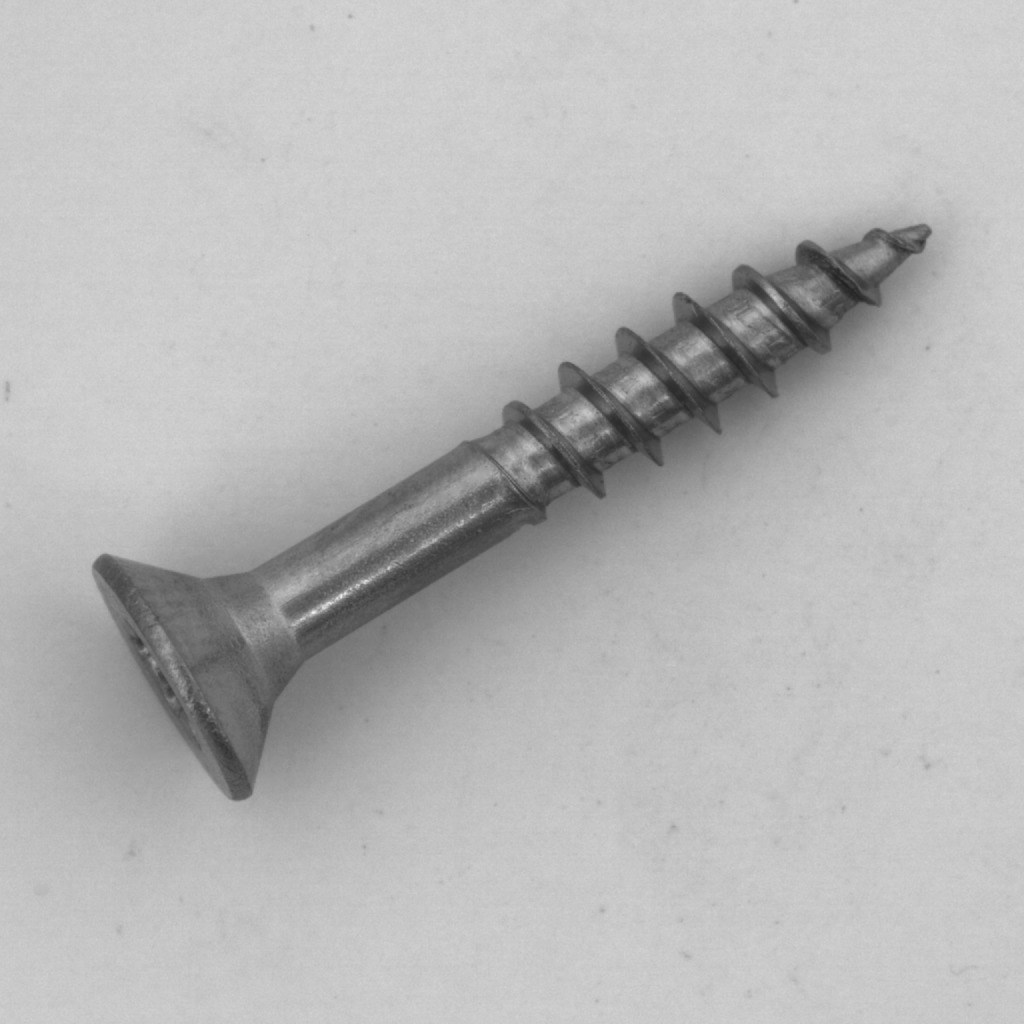good: (77, 200, 941, 822)
